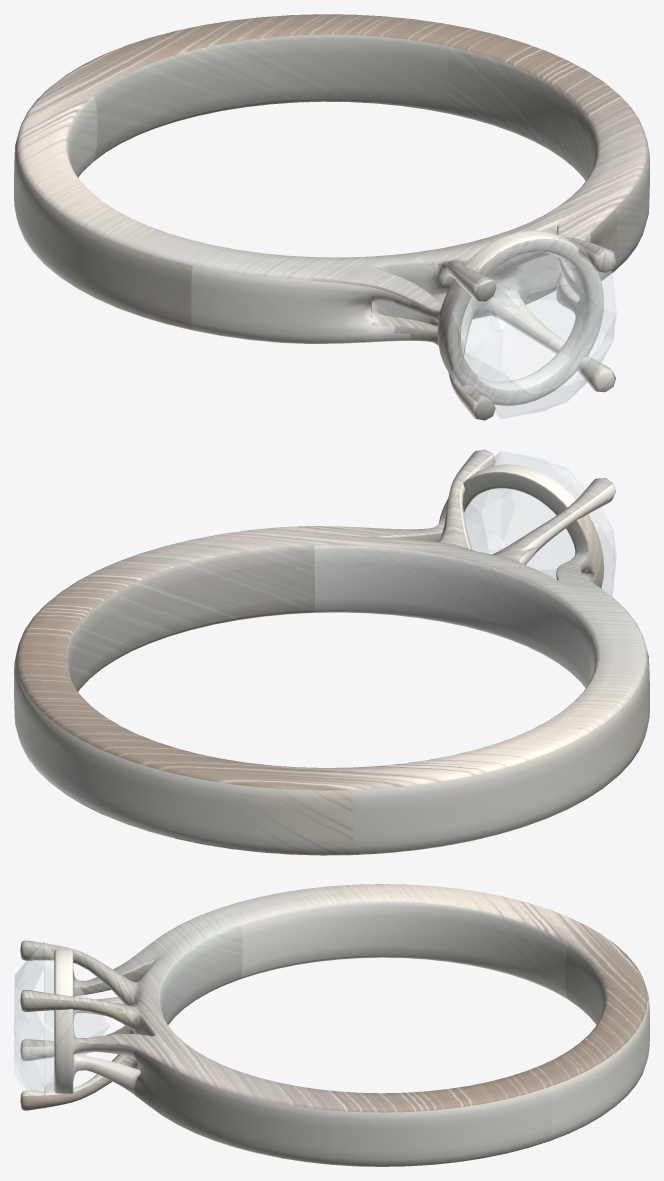
The model's file is nhan.glb.
The picture shows the model from 3 angles, top to bottom: view 1: azimuth 30°, elevation 25°; view 2: azimuth 150°, elevation 25°; view 3: azimuth 270°, elevation 25°; orthographic projection. The views are drawn at different scales.
Parts seen in each view (by area): view 1: Object_3, Object_2; view 2: Object_3, Object_2; view 3: Object_3, Object_2.
Boxes of the visible parts, box(x1,y1,x2,y2) form: Object_3: box(14, 14, 649, 420); Object_2: box(452, 235, 616, 418); Object_3: box(14, 449, 649, 855); Object_2: box(464, 451, 616, 596); Object_3: box(20, 884, 649, 1166); Object_2: box(14, 942, 110, 1108).
Size of the model in its own units: 2.5 by 0.7321 by 2.97.
2 materials, 2 textured.
